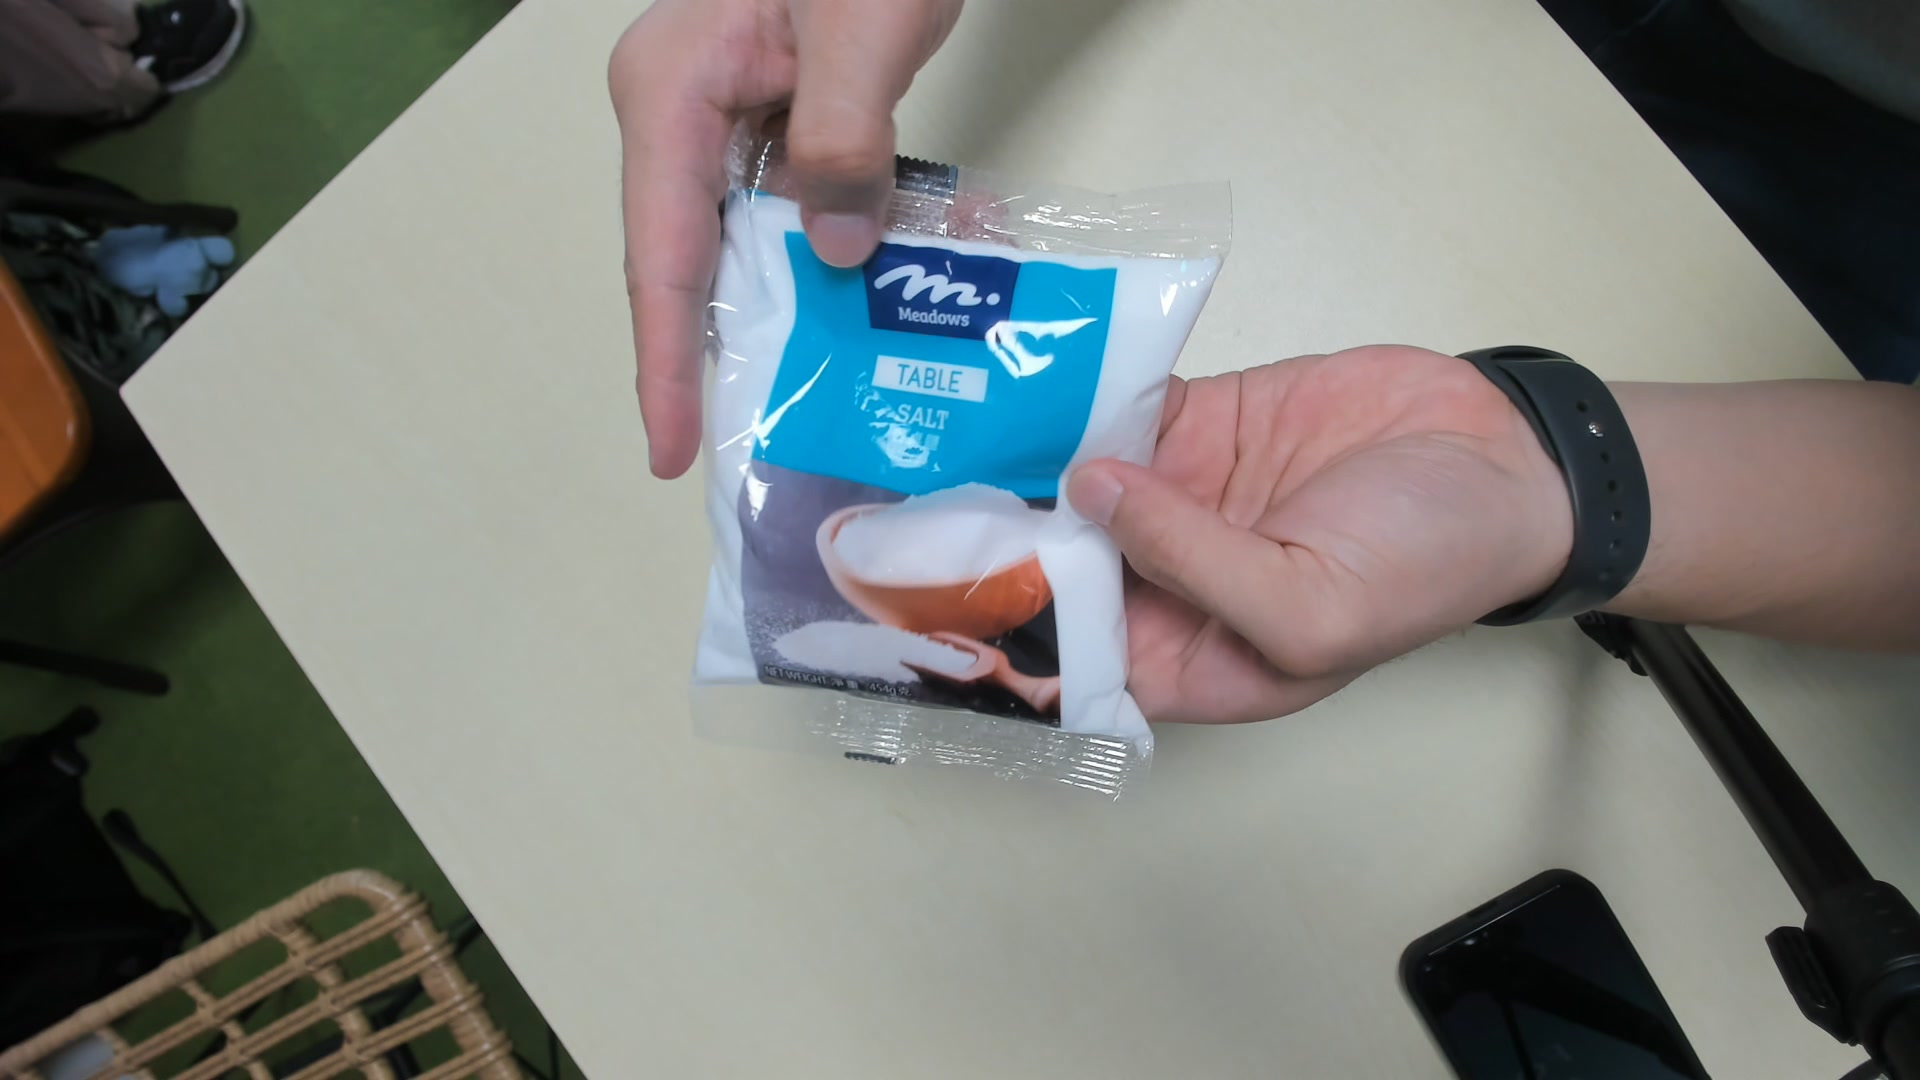Salt_400-499g_NonHalal_NonHealthy: (709, 137, 1218, 795)
